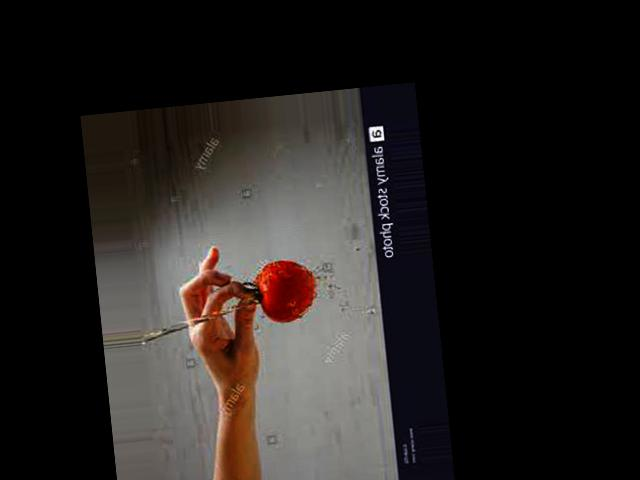tomato: (255, 259, 320, 326)
